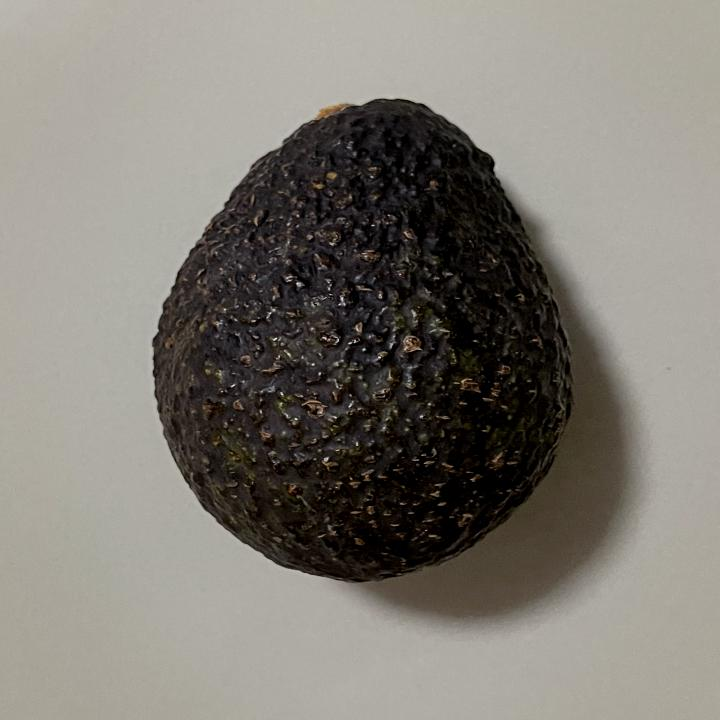Level2: (144, 95, 584, 587)
